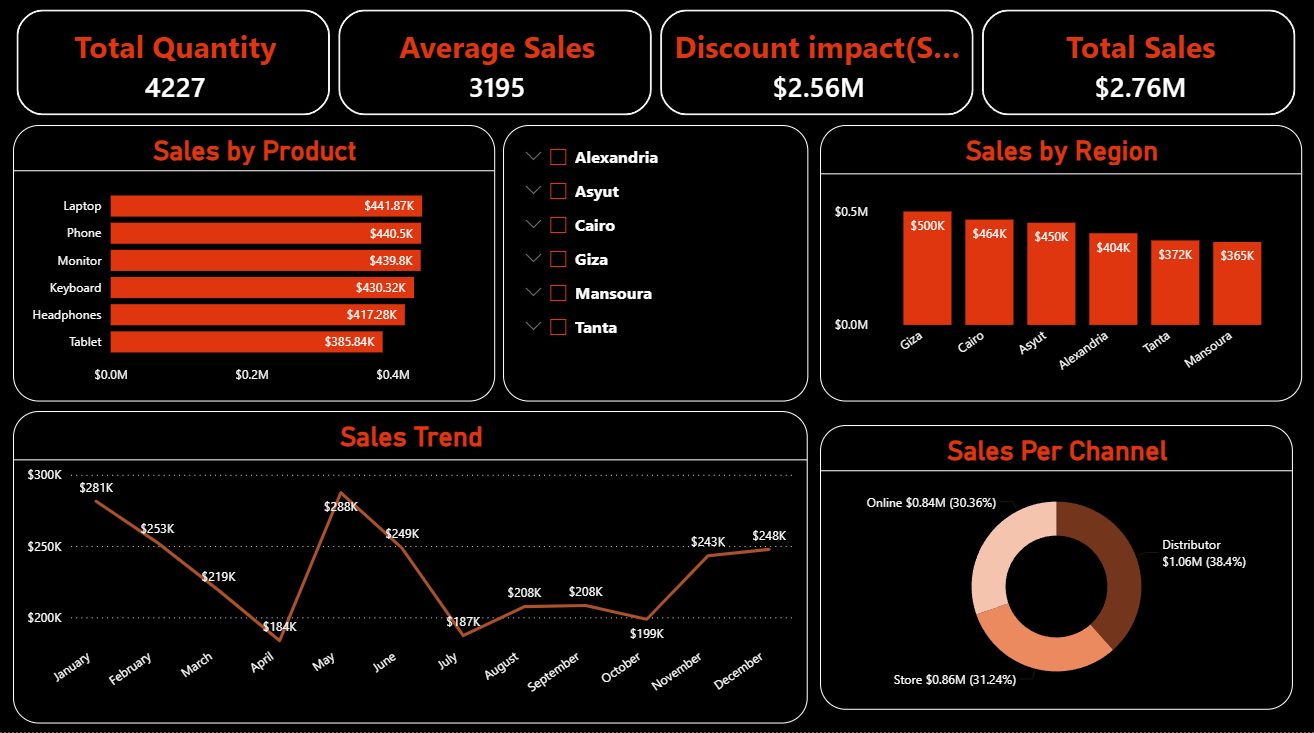

This screenshot's page, from the dashboard's own definition file:
{"tool":"powerbi","page":{"name":"Page 1","canvas":[1280,720],"ordinal":0},"visuals":[{"type":"cardVisual","fields":{"Data":["Sheet1.Total Quantity","Sheet1.Average Sales","Sum(Sheet1.Sales(discount impact))","Sum(Sheet1.Total sales)"]},"box":[0,0,1280,137.1],"z":0},{"type":"barChart","title":"Sales by Product","fields":{"Category":["Sheet1.Product"],"Y":["Sum(Sheet1.discount impact)"]},"box":[13.6,129.4,468.8,269.4],"z":1000},{"type":"columnChart","title":"Sales by Region","fields":{"Category":["Sheet1.Region"],"Y":["Sum(Sheet1.discount impact)"]},"box":[798.5,129.4,468.8,269.4],"z":2000},{"type":"lineChart","title":"Sales Trend","fields":{"Category":["Date.Date.Variation.Date Hierarchy.Month"],"Y":["Sum(Sheet1.Total sales)"]},"box":[13.6,407.5,773.3,304.4],"z":3000},{"type":"donutChart","title":"Sales Per Channel","fields":{"Y":["Sum(Sheet1.Total sales)"],"Category":["Sheet1.Sales_Channel"]},"box":[798.5,421.2,460.1,277.2],"z":4000},{"type":"slicer","fields":{"Values":["Sheet1.Region","Sheet1.Product","Sheet1.Customer_Segment"]},"box":[490.2,129.4,296.7,269.4],"z":5000}]}

Visuals, with their boxes in screenshot pixels (x1, y1, x2, y2), scaled from the page's 1280x720 canvas onto the 1314x733 screenshot:
cardVisual - Sheet1.Total Quantity x Sheet1.Average Sales: x1=0, y1=0, x2=1313, y2=140
"Sales by Product" barChart: x1=14, y1=132, x2=495, y2=406
"Sales by Region" columnChart: x1=820, y1=132, x2=1301, y2=406
"Sales Trend" lineChart: x1=14, y1=415, x2=808, y2=725
"Sales Per Channel" donutChart: x1=820, y1=429, x2=1292, y2=711
slicer - Sheet1.Region x Sheet1.Product: x1=503, y1=132, x2=808, y2=406
